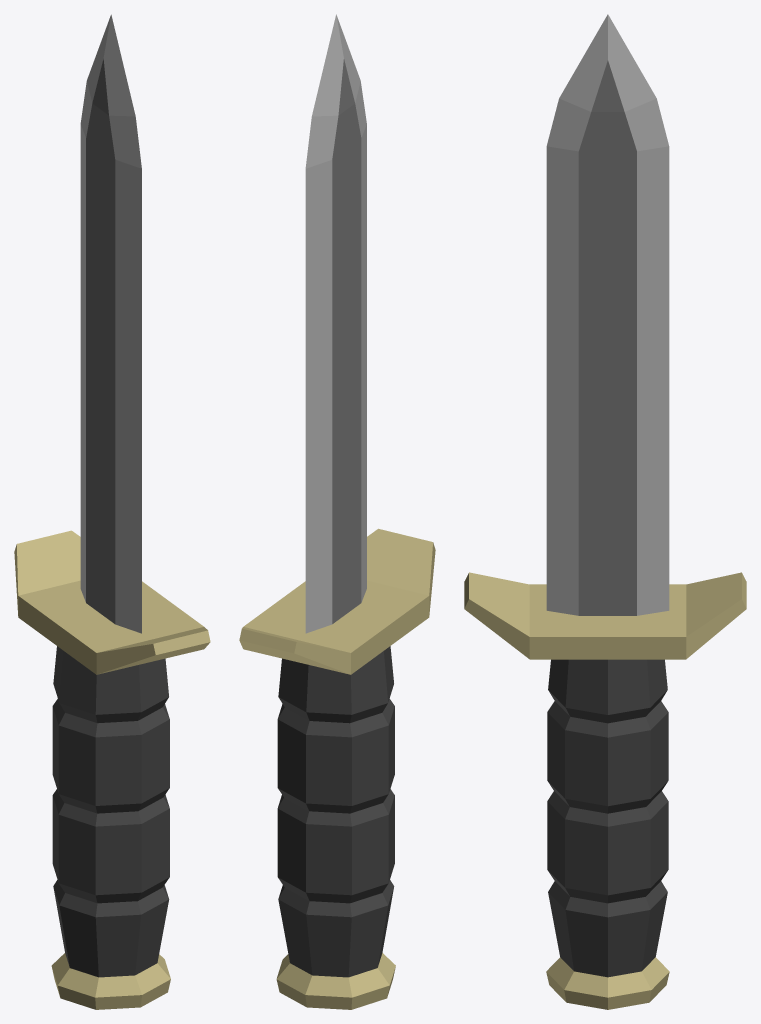
The model's file is Knife-A.fbx.
3 renders of one model, left to right at view 1: azimuth 30°, elevation 25°; view 2: azimuth 150°, elevation 25°; view 3: azimuth 270°, elevation 25°, orthographic.
Visible parts, largest first — view 1: CouteauA; view 2: CouteauA; view 3: CouteauA.
Boxes of the visible parts, x1,y1,x2,y2 form: CouteauA: (14,14,210,1009); CouteauA: (239,14,435,1009); CouteauA: (464,14,746,1009).
Size of the model in its own units: 55.47 by 478 by 126.
